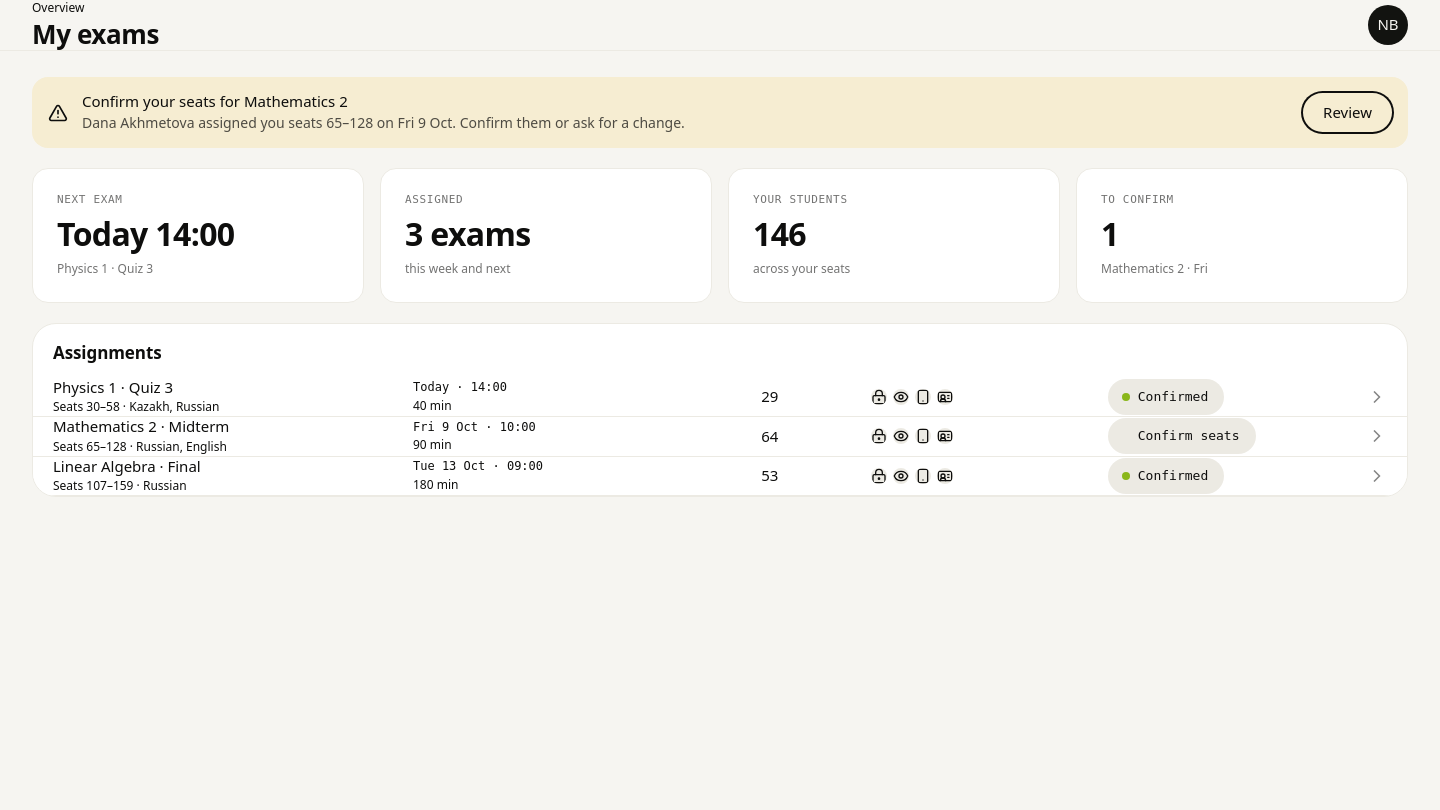
0.9 My exams › confirms the seats from the row's chip (0.9a) and turns the row Confirmed
Step 1. Click the button "Confirm seats" → (1182, 436), box [1108, 418, 1256, 454]
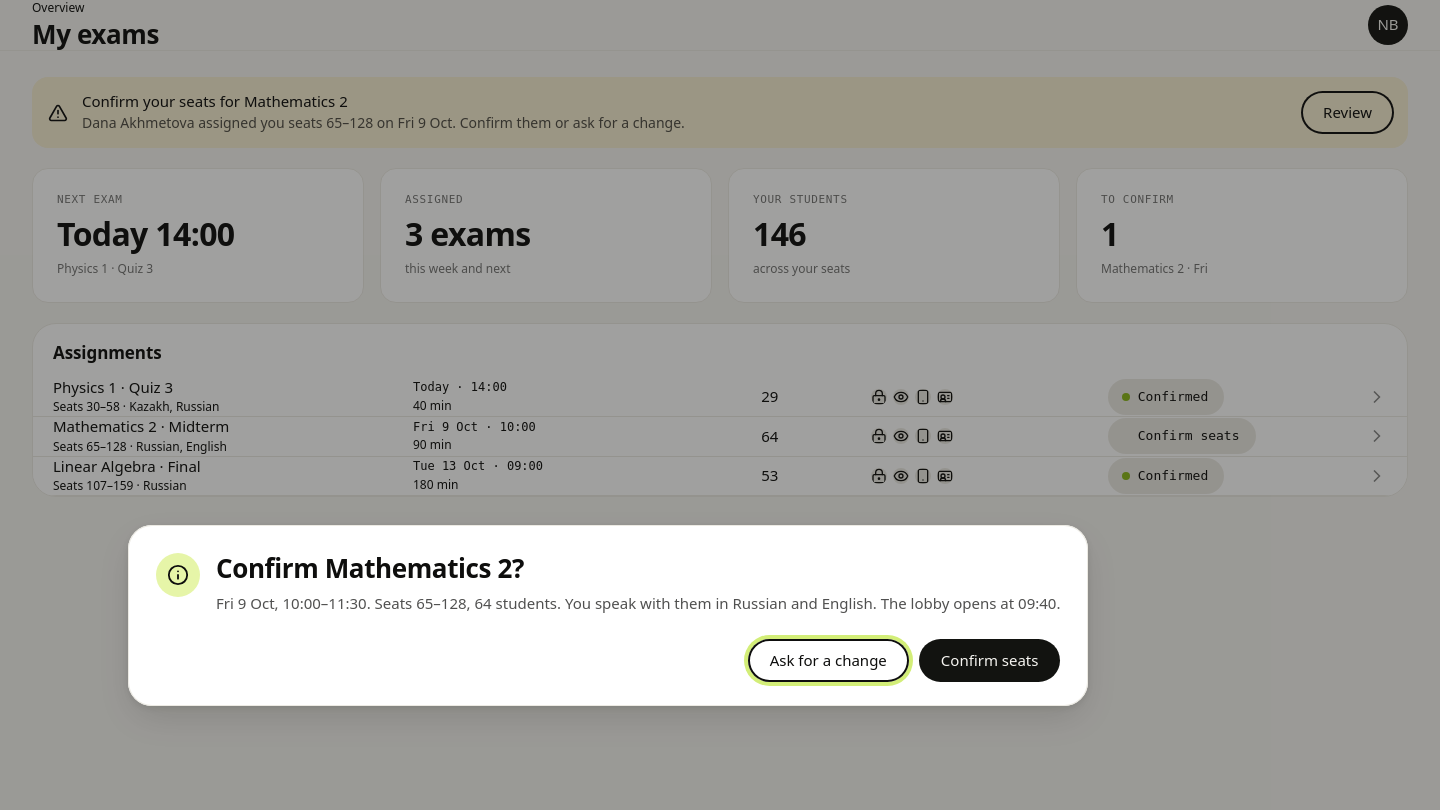
Result: the text "Fri 9 Oct, 10:00–11:30. Seats 65–128, 64 students. You speak with them in Russian and English. The lobby opens at 09:40." is shown at [216, 593, 1060, 613]
Step 2. Click the button "Confirm seats" → (990, 660), box [919, 638, 1060, 682]
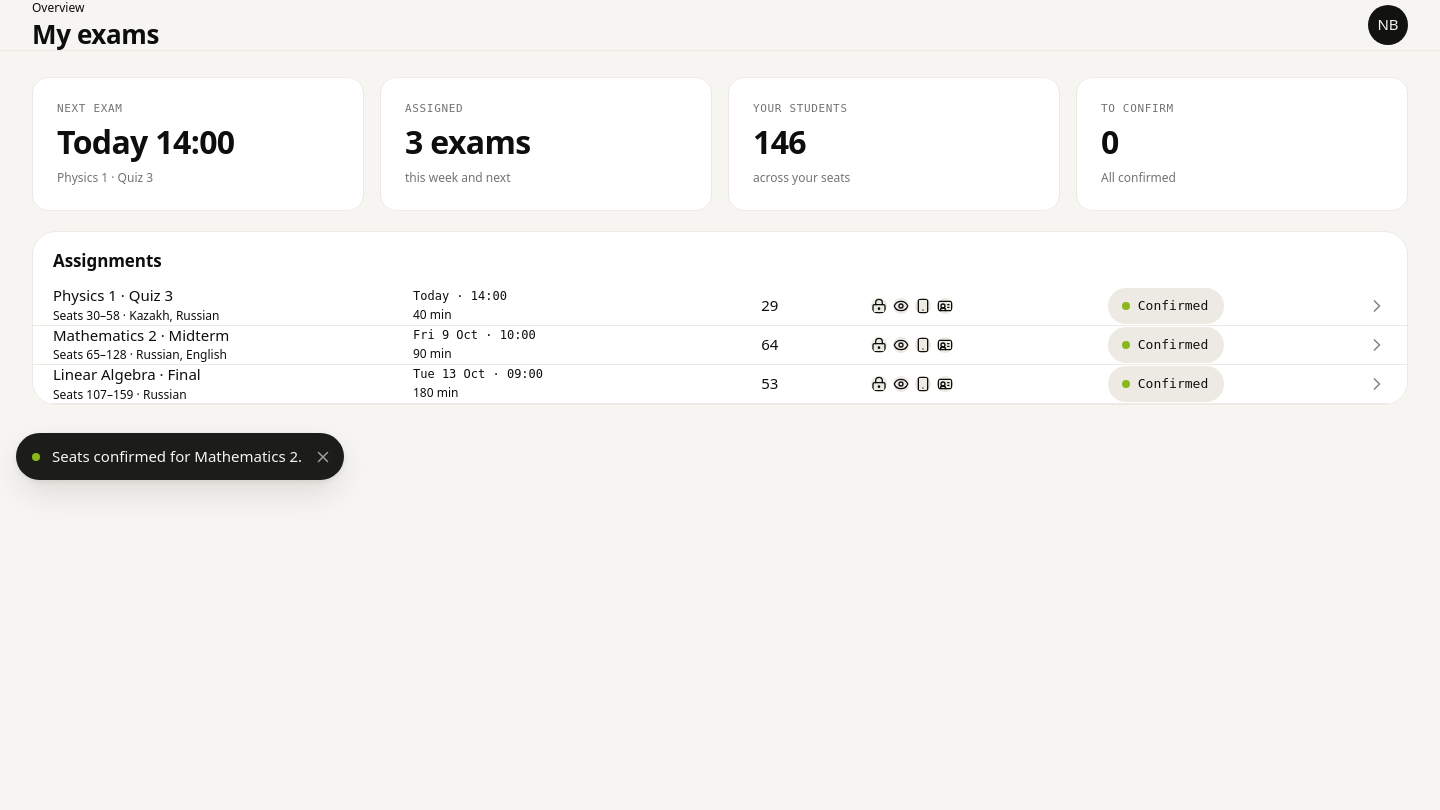
Result: the dialog is gone
Result: the text "Seats confirmed for Mathematics 2." is shown at [52, 445, 302, 468]
Result: the text "Confirmed" is shown at [1108, 327, 1224, 363]
